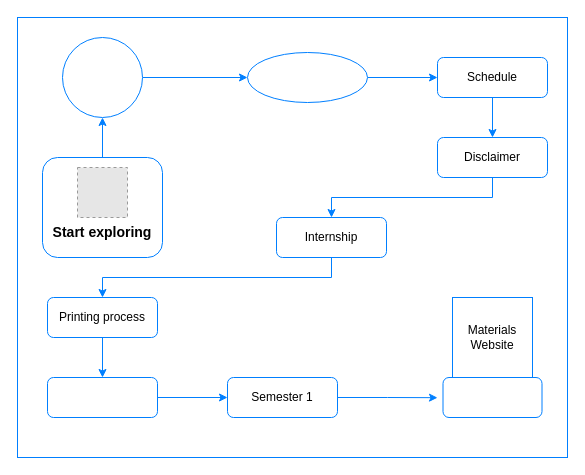
The diagram is 585 pixels wide and 475 high, and some of its shapes have lost their labels. Grey dashed boxes stand in for pictures. The shapes that lost their labels are listed below. From the top down, each one's centre as x and y in pixels, then its label:
At (102,77): "Overall degree".
At (307,77): "College overview".
At (102,397): "College materials".
At (492,397): "END Project".
